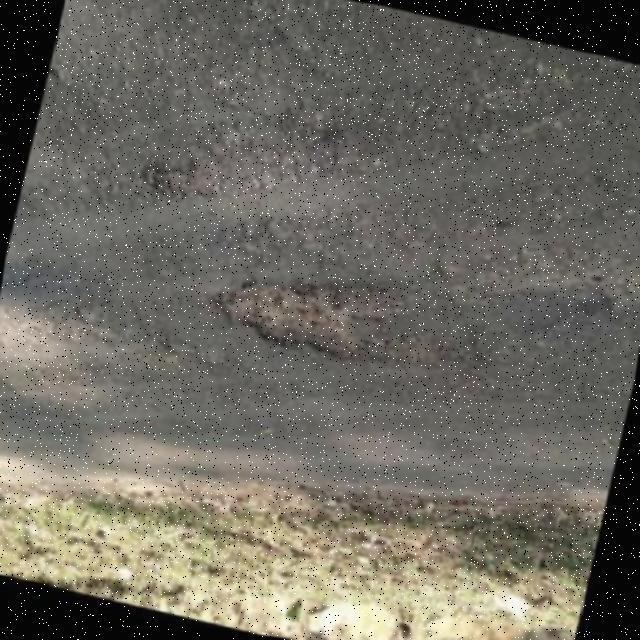Pothole: (220, 266, 602, 369)
